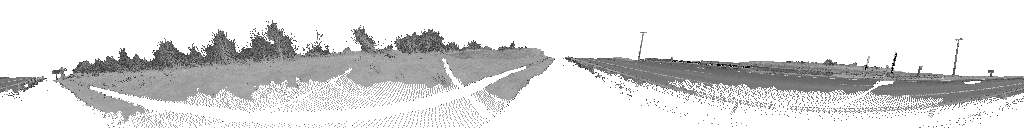light_pole: (951, 38, 963, 75), (637, 31, 647, 58)
